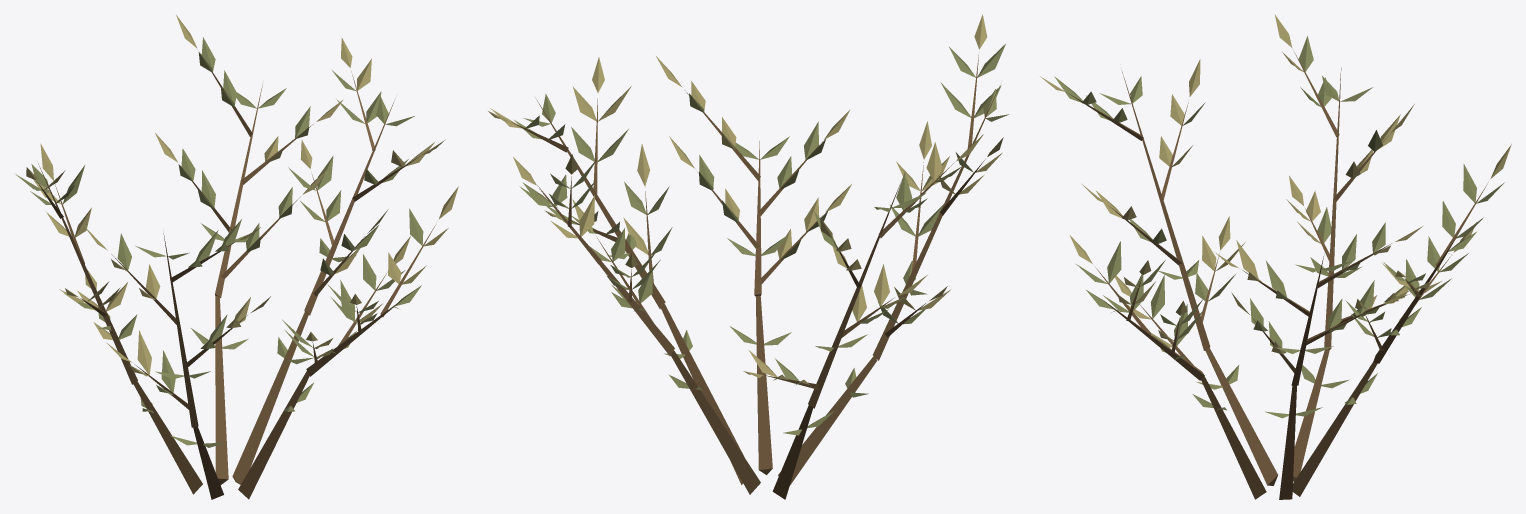
File: bush-3-levels.glb
The picture shows the model from 3 angles, left to right: view 1: azimuth 30°, elevation 25°; view 2: azimuth 150°, elevation 25°; view 3: azimuth 270°, elevation 25°; orthographic projection. The views are drawn at different scales.
Parts seen in each view (by area): view 1: bush-3-lod0-mesh; view 2: bush-3-lod0-mesh; view 3: bush-3-lod0-mesh.
Boxes of the visible parts, x1,y1,x2,y2 form: bush-3-lod0-mesh: (14,15,458,499); bush-3-lod0-mesh: (488,14,1008,499); bush-3-lod0-mesh: (1040,15,1511,499).
Size of what is drawn, in the model's own units: 2.66 by 2.4 by 2.68.
